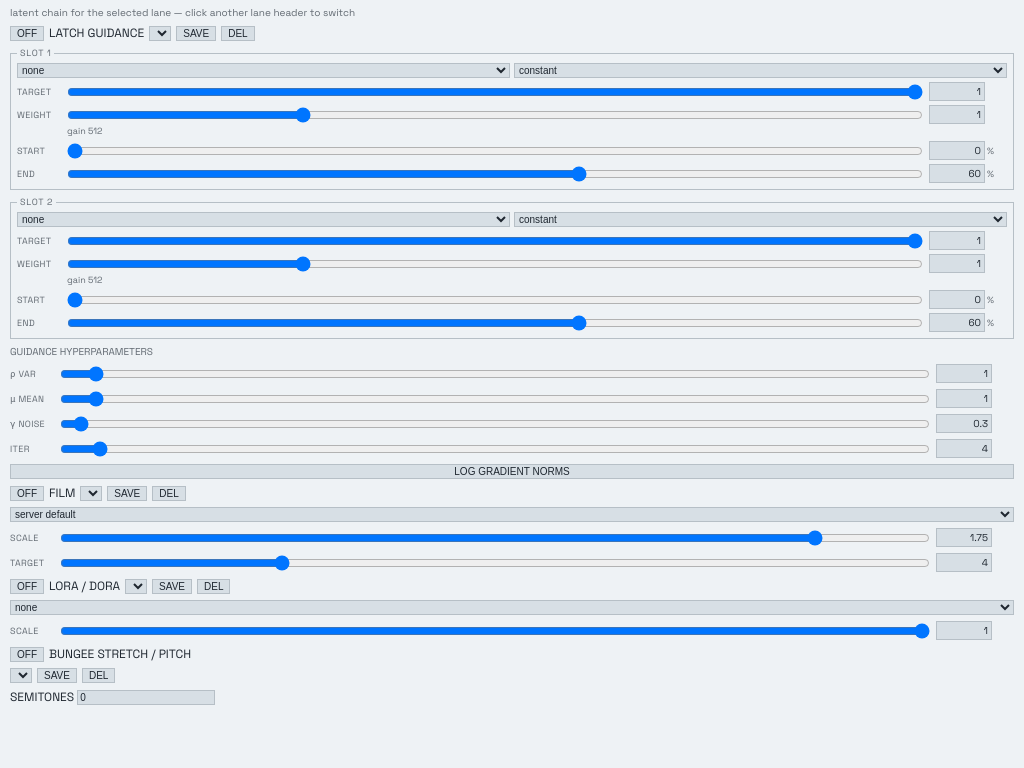
Test case: LATCH slot controls: unit and value, text fields, the head's weight limit, ramps with two ends › a new ramp starts with both ends inside the head's range, not at 0
The image size is (1024, 768).
Select "hardness · medium" in the dropdown named "HEAD — slot 1": (264,70) [17, 63, 510, 78]
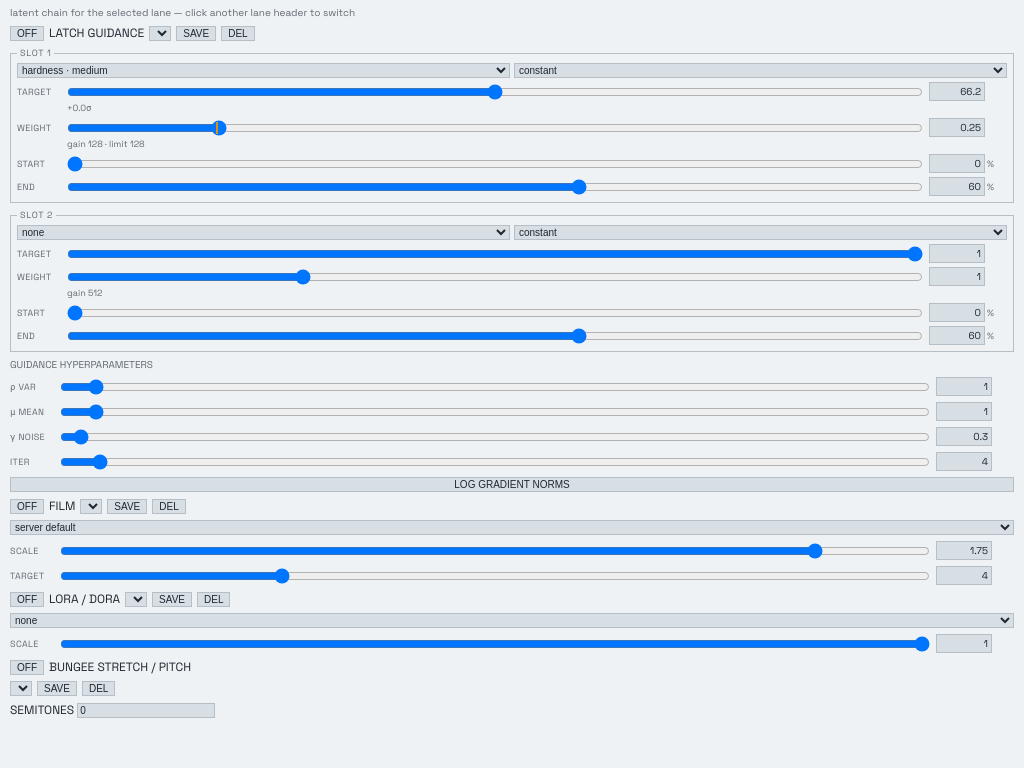
Select "ramp_up" in the dropdown named "KIND — slot 1": (760,70) [514, 63, 1007, 78]
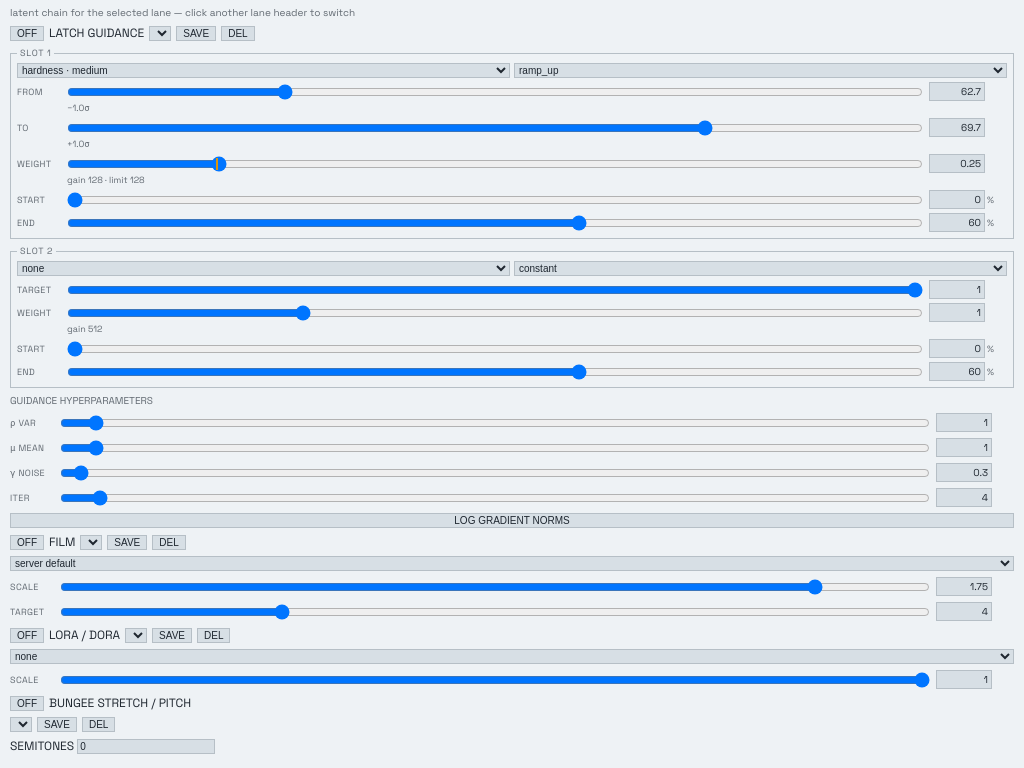
expect the number field named "FROM — slot 1" holds "62.7": met, box [929, 82, 985, 101]
expect the number field named "TARGET — slot 1" holds "69.7": met, box [929, 118, 985, 137]
